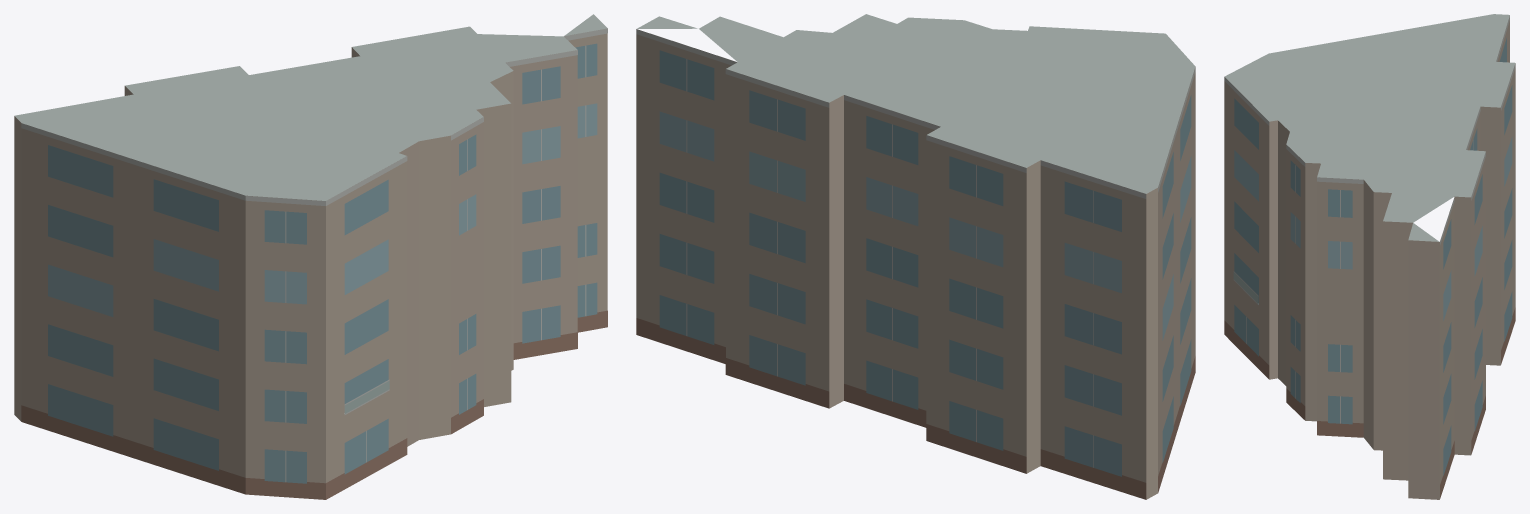
File: survey-upis-33005218.glb
3 views of the same model, side by side, from view 1: azimuth 30°, elevation 25°; view 2: azimuth 150°, elevation 25°; view 3: azimuth 270°, elevation 25° (orthographic). The views are drawn at different scales.
Visible parts, largest first — view 1: survey-upis-33005218.tmp; view 2: survey-upis-33005218.tmp; view 3: survey-upis-33005218.tmp.
Part boxes in pixels (box(x1,y1,x2,y2)): survey-upis-33005218.tmp: box(14, 14, 607, 499); survey-upis-33005218.tmp: box(636, 14, 1195, 499); survey-upis-33005218.tmp: box(1224, 14, 1515, 499).
Bounding box in the file's own units: 27.09 × 14.3 × 14.63.
